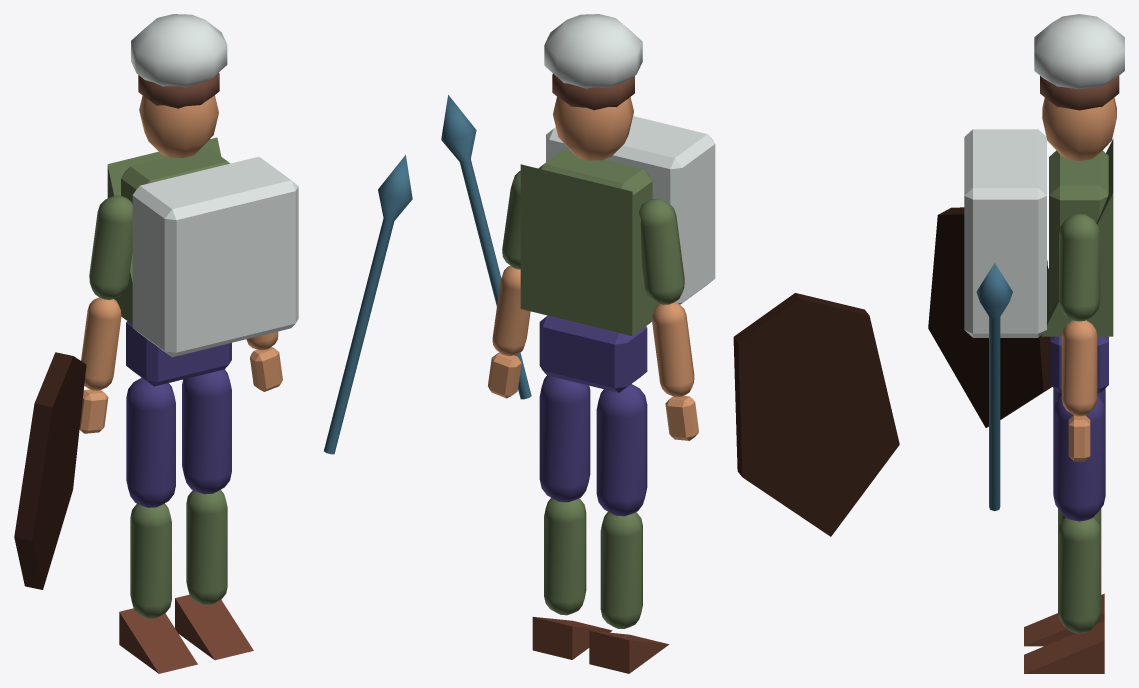
Rendered from adventurer.rustic.glb.
The picture shows the model from 3 angles, left to right: view 1: azimuth 30°, elevation 25°; view 2: azimuth 150°, elevation 25°; view 3: azimuth 270°, elevation 25°; orthographic projection.
Parts seen in each view (by area): view 1: accessory.body, accessory.off-hand, thigh.left, thigh.right, accessory.head, shin.left, shin.right, accessory.main-hand, upper-arm.left, head, pelvis, foot.left (+7 smaller); view 2: accessory.off-hand, tunic, accessory.body, pelvis, thigh.left, thigh.right, accessory.head, shin.left, shin.right, upper-arm.left, head, accessory.main-hand (+9 smaller); view 3: accessory.body, accessory.off-hand, accessory.head, thigh.right, shin.right, torso, upper-arm.right, accessory.main-hand, head, forearm.right, tunic, foot.right (+4 smaller).
Part boxes in pixels (x1,y1,x2,y2): accessory.body: (132, 156, 298, 357); accessory.off-hand: (14, 352, 86, 589); thigh.left: (126, 377, 175, 507); thigh.right: (182, 369, 231, 494); accessory.head: (131, 14, 227, 87); shin.left: (130, 503, 171, 618); shin.right: (186, 489, 227, 605); accessory.main-hand: (324, 155, 412, 454); upper-arm.left: (89, 195, 132, 299); head: (139, 95, 218, 158); pelvis: (126, 321, 231, 386); foot.left: (119, 608, 197, 673); accessory.off-hand: (733, 293, 899, 536); tunic: (520, 164, 659, 335); accessory.body: (546, 116, 715, 304); pelvis: (539, 315, 647, 392); thigh.left: (596, 384, 647, 516); thigh.right: (539, 375, 590, 502); accessory.head: (544, 14, 642, 88); shin.left: (600, 512, 642, 628); shin.right: (544, 498, 586, 615); upper-arm.left: (638, 198, 684, 304); head: (553, 97, 633, 160); accessory.main-hand: (441, 95, 531, 399); accessory.body: (964, 129, 1046, 337); accessory.off-hand: (928, 207, 1051, 427); accessory.head: (1034, 14, 1124, 89); thigh.right: (1053, 396, 1105, 521); shin.right: (1058, 517, 1101, 633); torso: (1049, 150, 1108, 310); upper-arm.right: (1059, 213, 1100, 321); accessory.main-hand: (976, 263, 1012, 511); head: (1042, 97, 1116, 161); forearm.right: (1061, 320, 1097, 416); tunic: (1041, 139, 1113, 336); foot.right: (1024, 621, 1104, 673).
Size of the model in its own units: 2.27 by 3.2 by 0.9041.
